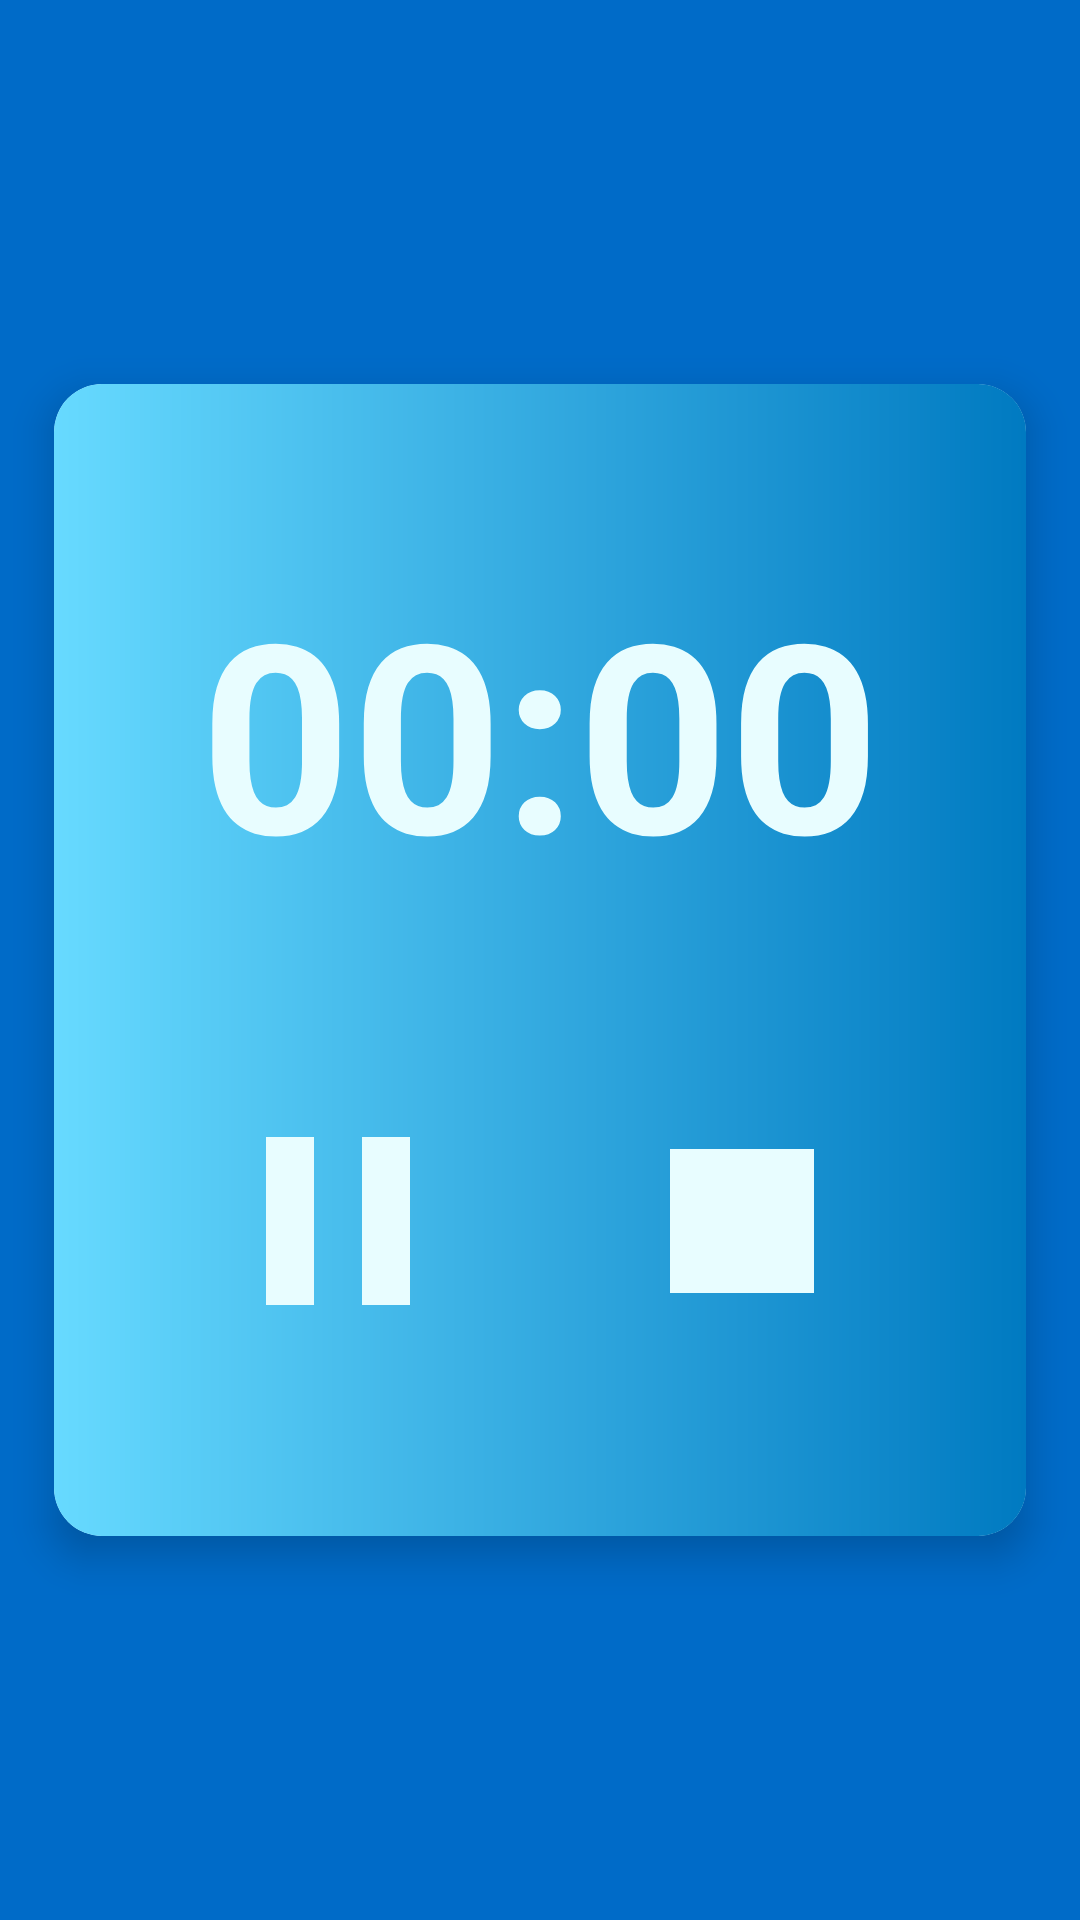

Where icons sit on this 1080 x 1920 app screen, as (left=x1, top=y1, right=x2, bottom=y2):
pause: (left=266, top=1077, right=482, bottom=1365)
